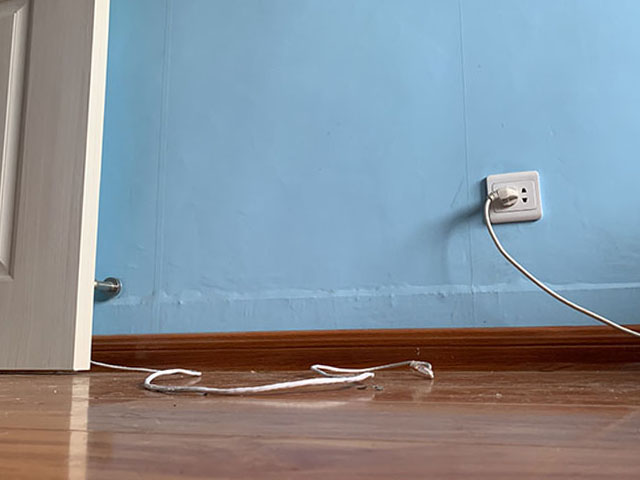wire: (480, 184, 640, 340), (89, 357, 437, 397)
